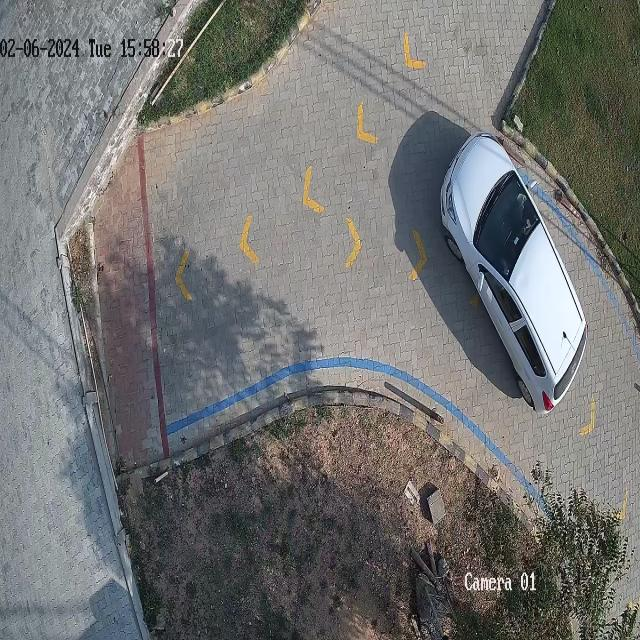car: (442, 136, 586, 412)
